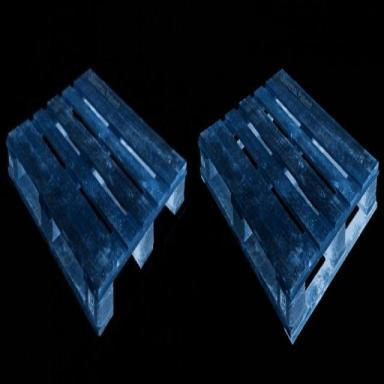pallet: (198, 68, 380, 345), (6, 68, 188, 336)
